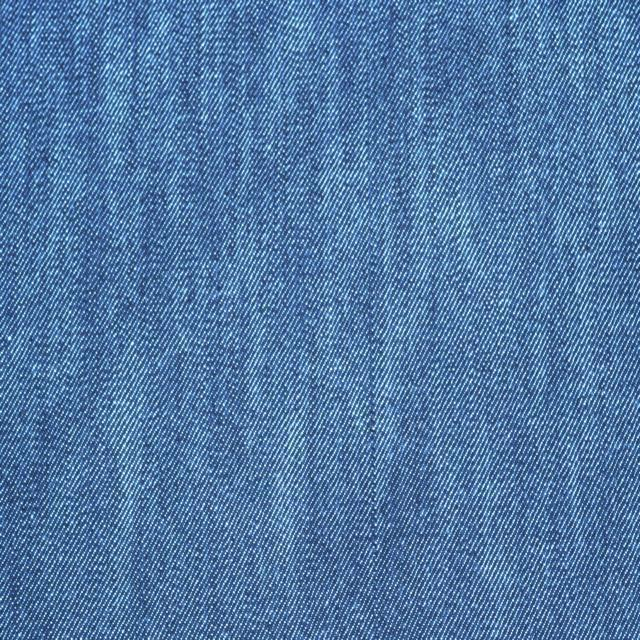pulled_or_thick_thread: (364, 256, 381, 526)
